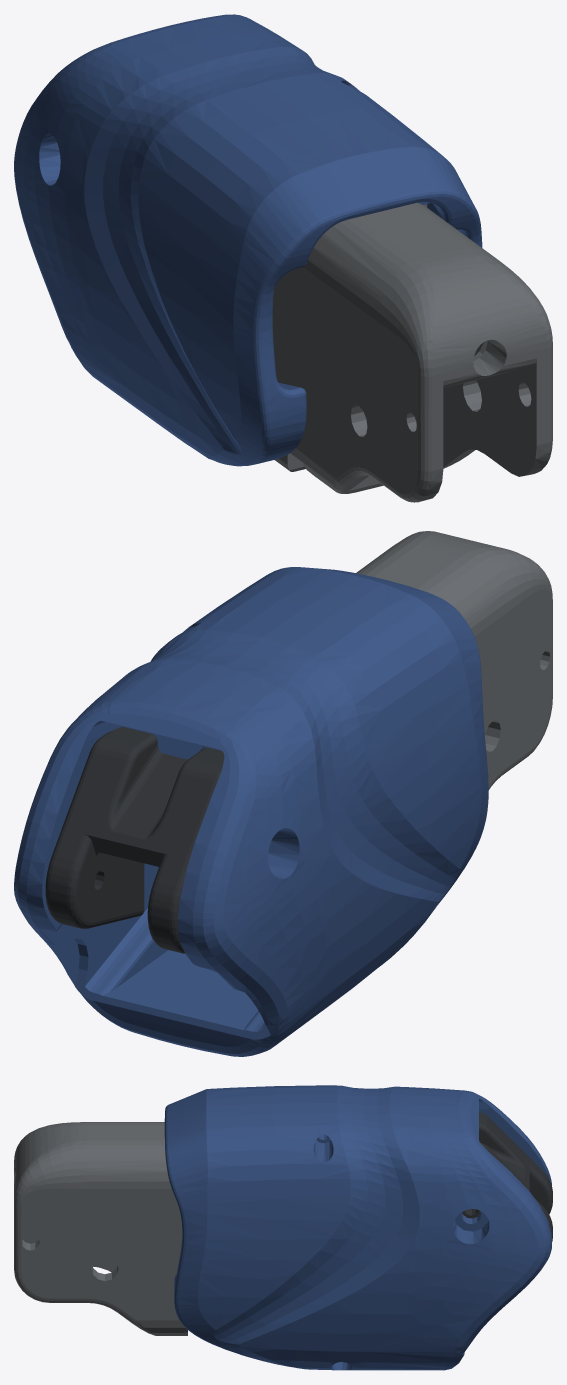
Rendered from rh_thumb_metacarpals_vis.obj.
3 views of the same model, one above another, from view 1: azimuth 30°, elevation 25°; view 2: azimuth 150°, elevation 25°; view 3: azimuth 270°, elevation 25° (orthographic). The views are drawn at different scales.
Parts seen in each view (by area): view 1: rh_thumb_metacarpals; view 2: rh_thumb_metacarpals; view 3: rh_thumb_metacarpals.
Part boxes in pixels (left/top/right/bottom): rh_thumb_metacarpals: left=14, top=14, right=552, bottom=502; rh_thumb_metacarpals: left=14, top=531, right=552, bottom=1056; rh_thumb_metacarpals: left=14, top=1085, right=552, bottom=1370.
Size of the model in its own units: 0.0223 by 0.0303 by 0.0594.
1 material, 1 textured.
